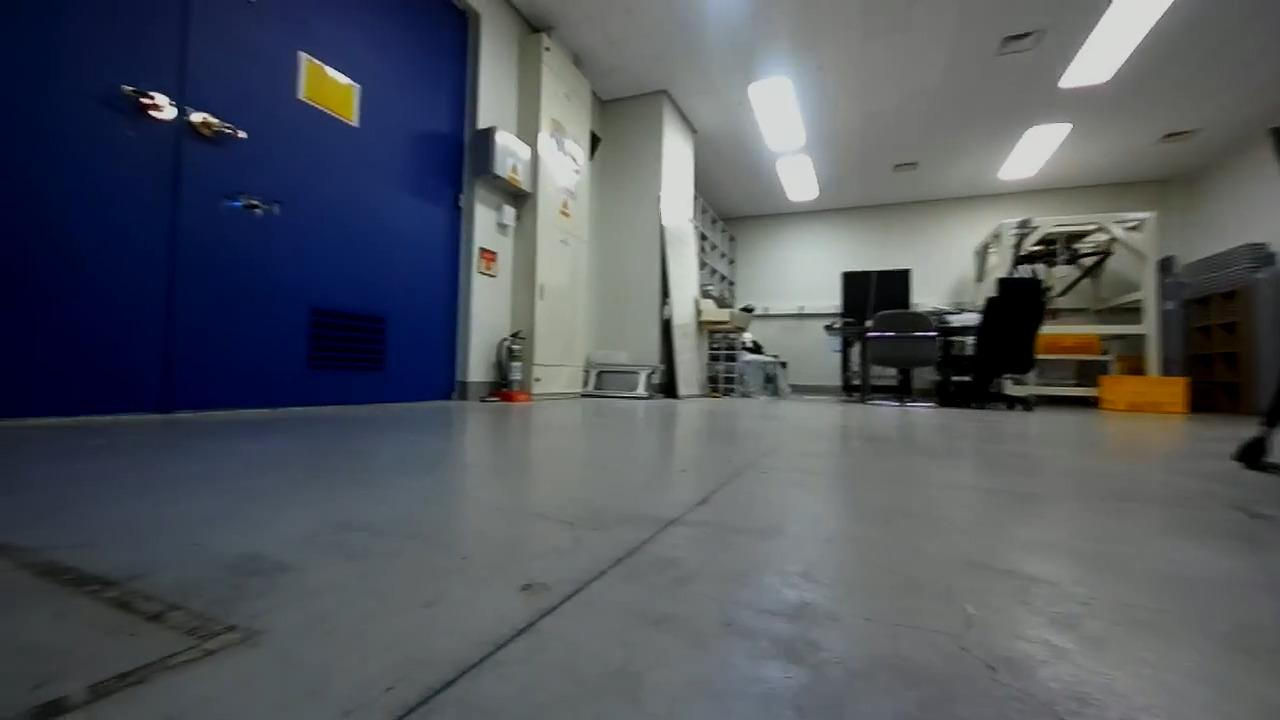crazyflie: (214, 188, 286, 221)
